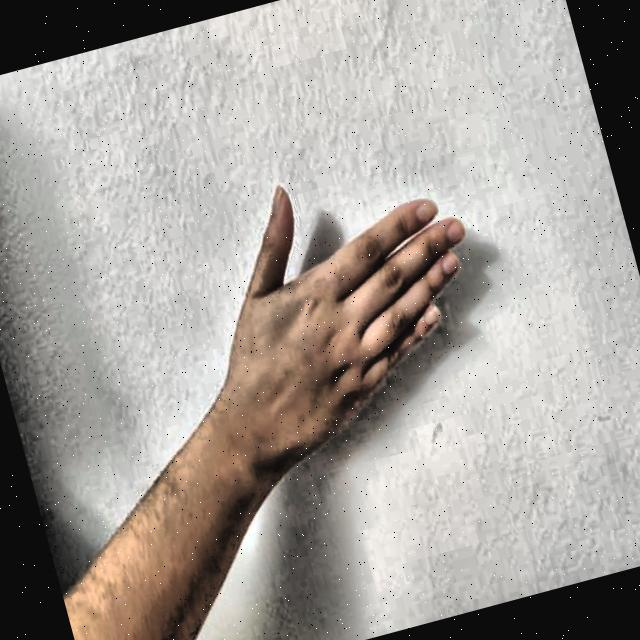Aa: (162, 118, 533, 516)
